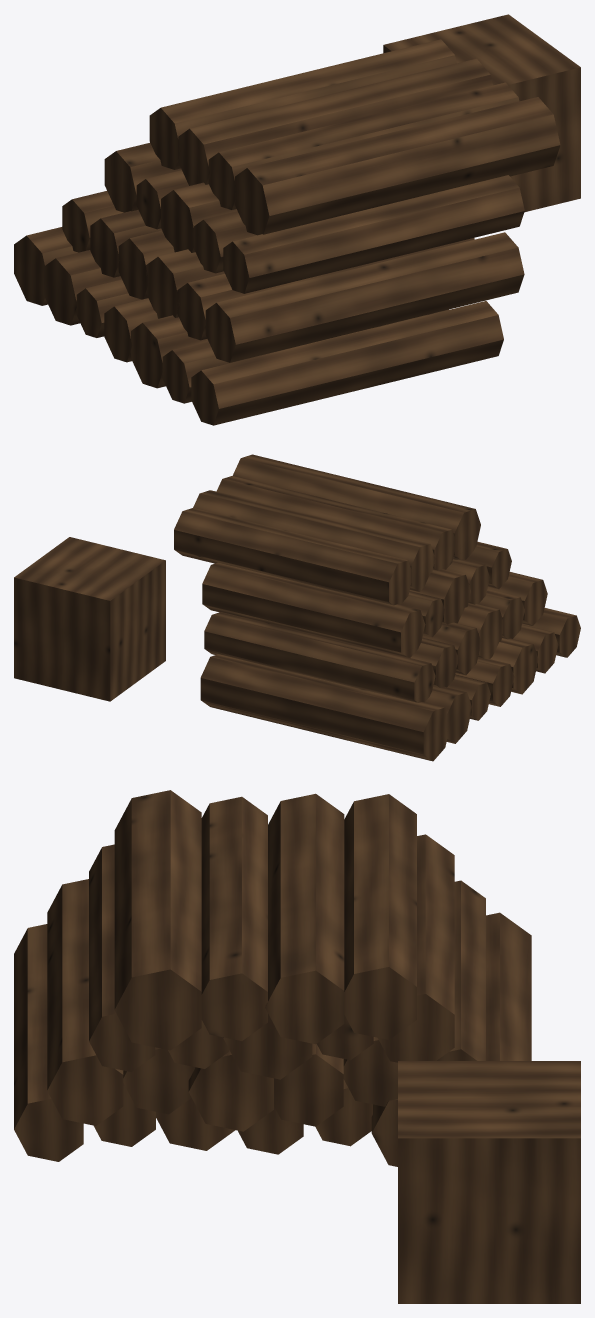
File: Woodpile.fbx
3 renders of one model, top to bottom at view 1: azimuth 30°, elevation 25°; view 2: azimuth 150°, elevation 25°; view 3: azimuth 270°, elevation 25°, orthographic. The views are drawn at different scales.
Parts seen in each view (by area): view 1: Woodpile; view 2: Woodpile; view 3: Woodpile.
Boxes of the visible parts, x1,y1,x2,y2 form: Woodpile: (14, 14, 580, 425); Woodpile: (14, 454, 580, 761); Woodpile: (14, 790, 580, 1303).
Bounding box in the file's own units: 2.05 × 0.7871 × 1.55.
